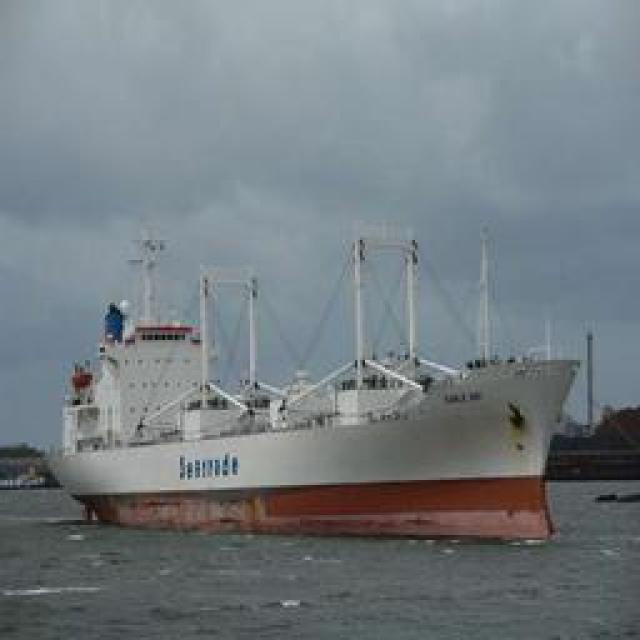ship2: (48, 227, 578, 544)
